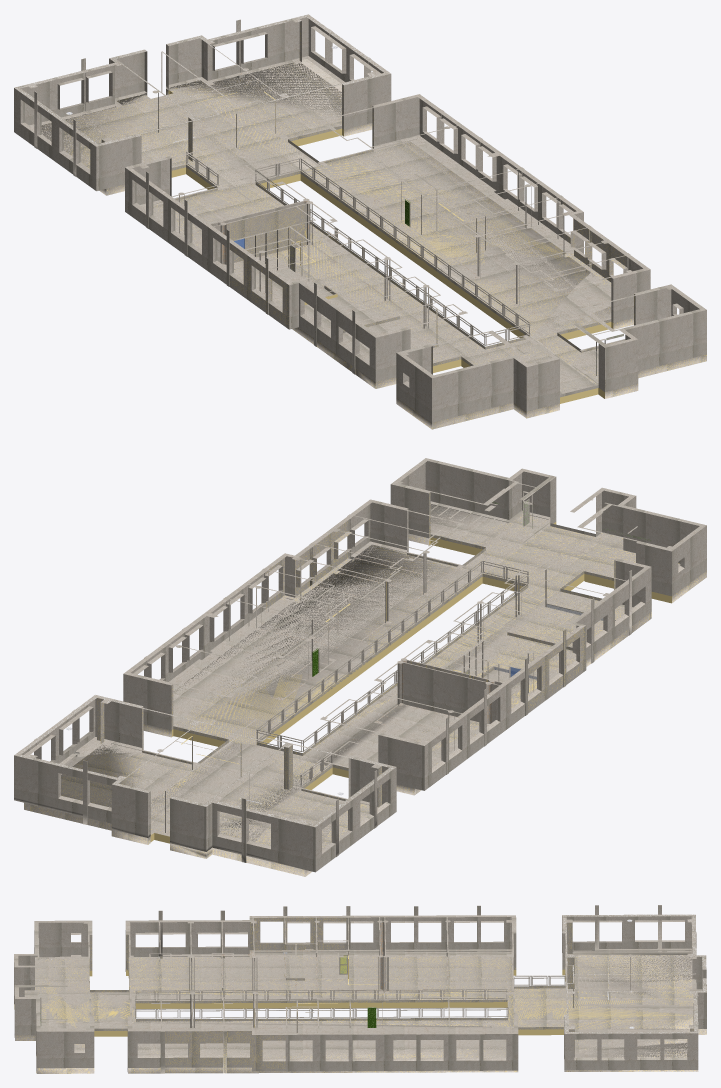
3 views of the same model, one above another, from view 1: azimuth 30°, elevation 25°; view 2: azimuth 150°, elevation 25°; view 3: azimuth 270°, elevation 25° (orthographic). The views are drawn at different scales.
Visible parts, largest first — view 1: Mesh229 Model, Mesh214 falso_techo_5_1 Model, Mesh52 barandilla_2_1 Model, Mesh143 barandilla_2_2 Model; view 2: Mesh229 Model, Mesh214 falso_techo_5_1 Model, Mesh52 barandilla_2_1 Model, Mesh143 barandilla_2_2 Model; view 3: Mesh229 Model, Mesh214 falso_techo_5_1 Model, Mesh52 barandilla_2_1 Model, Mesh143 barandilla_2_2 Model, Mesh50 barandilla3_2_1 Model.
Part boxes in pixels (bbox=[...]): Mesh229 Model: bbox=[14, 14, 706, 422]; Mesh214 falso_techo_5_1 Model: bbox=[41, 62, 706, 429]; Mesh52 barandilla_2_1 Model: bbox=[300, 158, 530, 333]; Mesh143 barandilla_2_2 Model: bbox=[255, 169, 485, 345]; Mesh229 Model: bbox=[14, 458, 706, 872]; Mesh214 falso_techo_5_1 Model: bbox=[24, 504, 706, 876]; Mesh52 barandilla_2_1 Model: bbox=[256, 561, 482, 740]; Mesh143 barandilla_2_2 Model: bbox=[302, 572, 528, 751]; Mesh229 Model: bbox=[14, 905, 706, 1073]; Mesh214 falso_techo_5_1 Model: bbox=[14, 955, 706, 1073]; Mesh52 barandilla_2_1 Model: bbox=[136, 1007, 507, 1019]; Mesh143 barandilla_2_2 Model: bbox=[135, 989, 507, 1000]; Mesh50 barandilla3_2_1 Model: bbox=[514, 975, 565, 986].
Bounding box in the file's own units: 27.27 × 5.6 × 66.27.
Materials: 12 (3 with a texture image).
